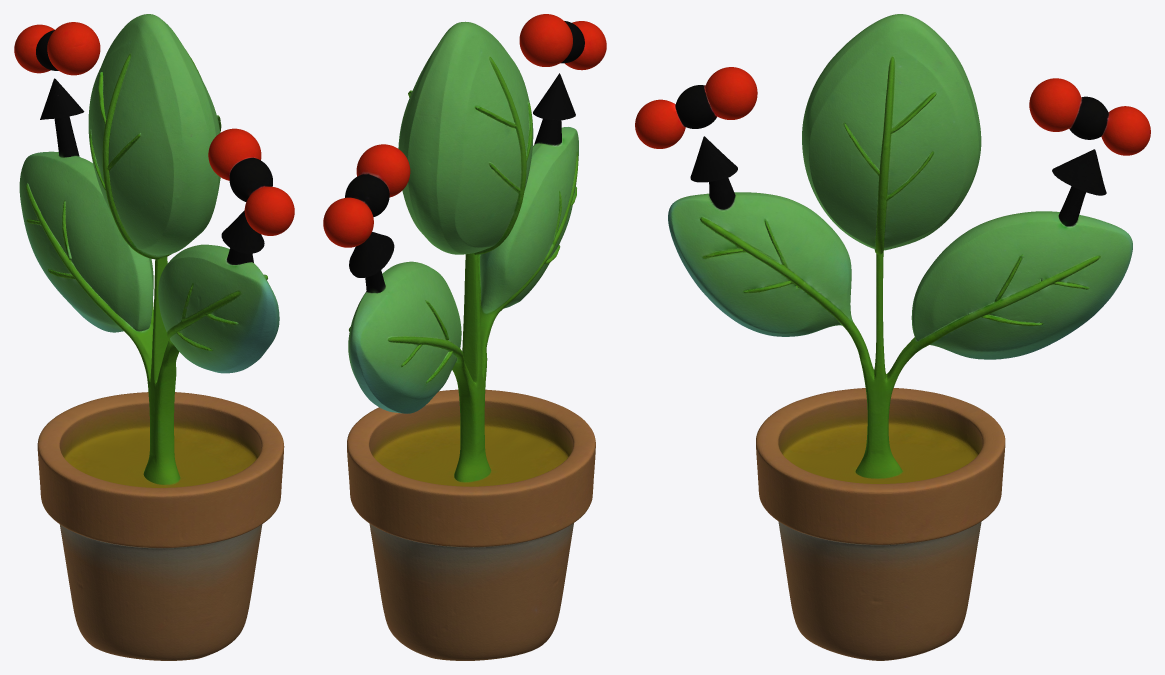
File: plant-respiration.glb
3 renders of one model, left to right at view 1: azimuth 30°, elevation 25°; view 2: azimuth 150°, elevation 25°; view 3: azimuth 270°, elevation 25°, orthographic.
Visible parts, largest first — view 1: tripo_node_ffbd6d5a-6200-4efc-a4fb-4a3d1d702f51; view 2: tripo_node_ffbd6d5a-6200-4efc-a4fb-4a3d1d702f51; view 3: tripo_node_ffbd6d5a-6200-4efc-a4fb-4a3d1d702f51.
Boxes of the visible parts, bbox=[...] form: tripo_node_ffbd6d5a-6200-4efc-a4fb-4a3d1d702f51: bbox=[14, 14, 294, 660]; tripo_node_ffbd6d5a-6200-4efc-a4fb-4a3d1d702f51: bbox=[323, 14, 606, 660]; tripo_node_ffbd6d5a-6200-4efc-a4fb-4a3d1d702f51: bbox=[635, 14, 1150, 660].
Bounding box in the file's own units: 0.3668 × 1 × 0.7614.
1 material, 1 textured.
